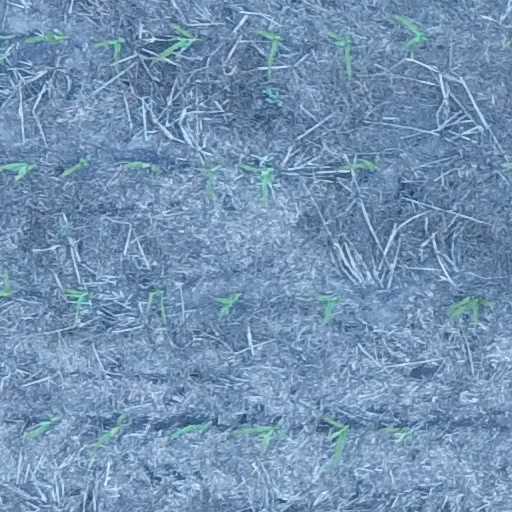planta: (148, 20, 201, 67), (387, 10, 431, 61), (234, 159, 277, 211), (224, 422, 288, 456), (87, 410, 131, 459), (317, 411, 352, 470), (248, 26, 286, 79), (444, 291, 496, 329), (323, 27, 357, 81), (59, 284, 96, 327), (88, 34, 126, 75), (197, 155, 227, 202), (309, 290, 344, 327), (143, 285, 170, 327), (166, 419, 214, 442), (334, 154, 382, 175), (21, 27, 70, 47), (213, 289, 244, 319), (59, 154, 91, 180), (23, 417, 55, 443), (373, 424, 414, 444), (120, 158, 163, 176)
